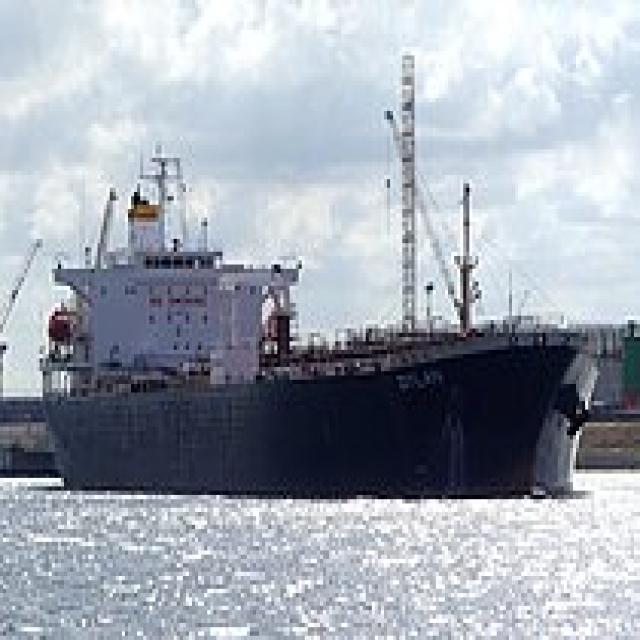Tanker: (31, 132, 604, 504)
